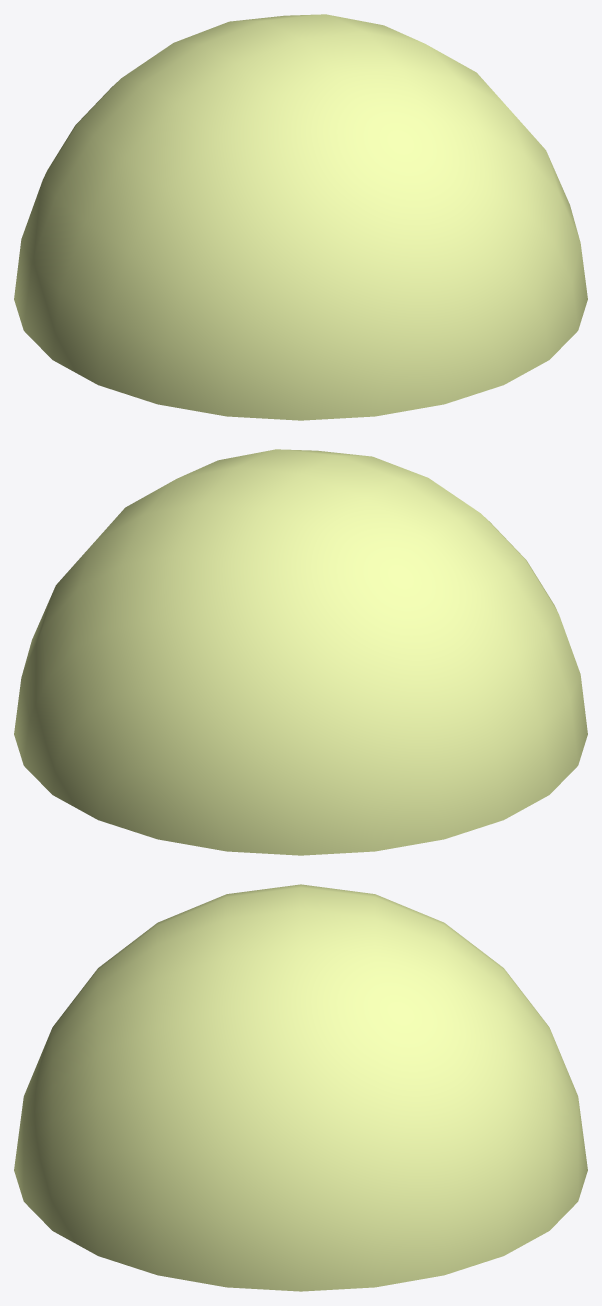
Rendered from Hemisphere.obj.
3 renders of one model, top to bottom at view 1: azimuth 30°, elevation 25°; view 2: azimuth 150°, elevation 25°; view 3: azimuth 270°, elevation 25°, orthographic.
Visible parts, largest first — view 1: Hemisphere.wrl/Compound/Compound/Compound/Compound/Compound/Face; view 2: Hemisphere.wrl/Compound/Compound/Compound/Compound/Compound/Face; view 3: Hemisphere.wrl/Compound/Compound/Compound/Compound/Compound/Face.
Boxes of the visible parts, x1,y1,x2,y2 form: Hemisphere.wrl/Compound/Compound/Compound/Compound/Compound/Face: [14, 14, 587, 420]; Hemisphere.wrl/Compound/Compound/Compound/Compound/Compound/Face: [14, 449, 587, 855]; Hemisphere.wrl/Compound/Compound/Compound/Compound/Compound/Face: [14, 884, 587, 1291].
Size of the model in its own units: 40 by 20 by 40.
